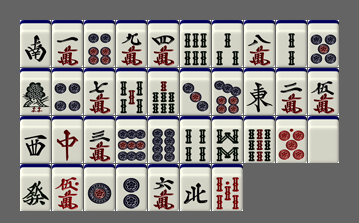0m: (52, 164, 83, 211)
0p: (276, 116, 307, 163)
0s: (212, 164, 243, 211)
1m: (52, 20, 83, 67)
1p: (84, 164, 115, 211)
1s: (20, 68, 51, 115)
1z: (244, 68, 275, 115)
2m: (276, 68, 307, 115)
2p: (116, 164, 147, 211)
2s: (276, 20, 307, 67)
2z: (20, 20, 51, 67)
3m: (84, 116, 115, 163)
3p: (180, 68, 211, 115)
3s: (212, 20, 243, 67)
3z: (20, 116, 51, 163)
4m: (148, 20, 179, 67)
4p: (52, 68, 83, 115)
4s: (180, 116, 211, 163)
4z: (180, 164, 211, 211)
5m: (308, 68, 339, 115)
5p: (308, 20, 339, 67)
5s: (116, 68, 147, 115)
5z: (308, 116, 339, 163)
6m: (148, 164, 179, 211)
6p: (84, 20, 115, 67)
6s: (180, 20, 211, 67)
6z: (20, 164, 51, 211)
7m: (84, 68, 115, 115)
7p: (212, 68, 243, 115)
7s: (148, 68, 179, 115)
7z: (52, 116, 83, 163)
8m: (244, 20, 275, 67)
8p: (148, 116, 179, 163)
8s: (212, 116, 243, 163)
9m: (116, 20, 147, 67)
9p: (116, 116, 147, 163)
9s: (244, 116, 275, 163)
